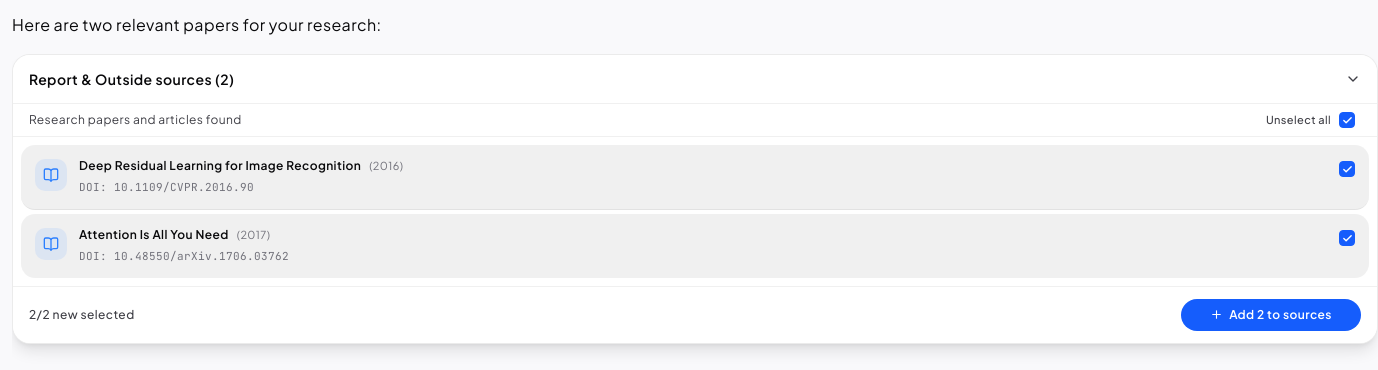
Scenario: ChatMessageItem Add to Sources & Selection Flow › updates count when individual candidate source is unchecked
The width and height of the screenshot is (1378, 370).
// Click the first candidate card to toggle selection
Click the heading "Deep Residual Learning for Image Recognition": [220, 167] box [79,158,361,175]
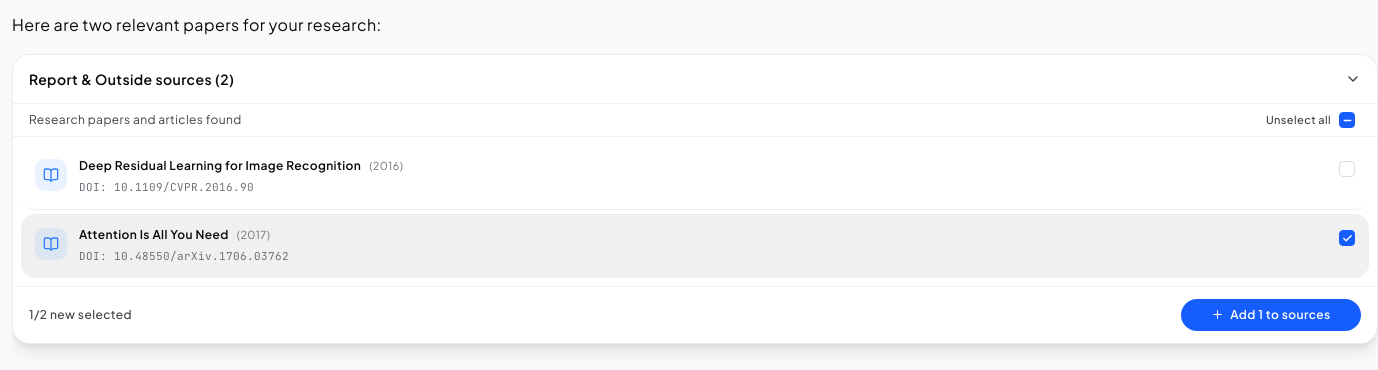
Now the text "1/2 new selected" is shown, box [29,307,132,323]
Now the button "Add 1 to sources" is shown, box [1181,299,1361,331]
